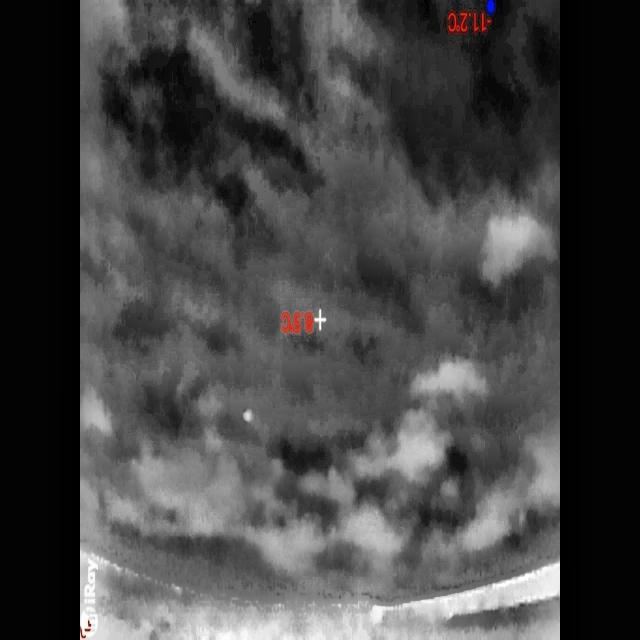drone: (243, 407, 254, 427)
